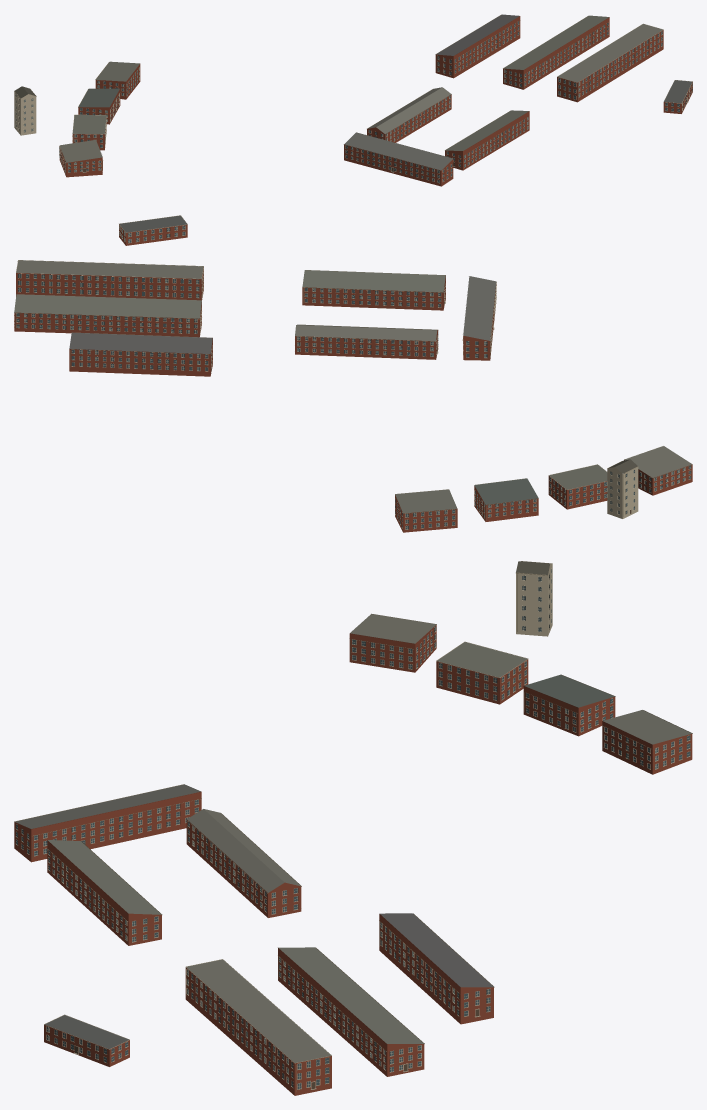
3 views of the same model, one above another, from view 1: azimuth 30°, elevation 25°; view 2: azimuth 150°, elevation 25°; view 3: azimuth 270°, elevation 25° (orthographic). The views are drawn at different scales.
Visible parts, largest first — view 1: -4_2_598391665_2, -4_2_-2339_20; view 2: -4_2_598391665_2, -4_2_-2339_20; view 3: -4_2_598391665_2, -4_2_-2339_20.
Part boxes in pixels (<box>): -4_2_598391665_2: <box>14,14,692,186</box>; -4_2_-2339_20: <box>14,91,36,135</box>; -4_2_598391665_2: <box>14,215,692,532</box>; -4_2_-2339_20: <box>607,466,638,518</box>; -4_2_598391665_2: <box>14,561,692,1095</box>; -4_2_-2339_20: <box>516,563,552,636</box>.
Bounding box in the file's own units: 403 × 36.31 × 248.
